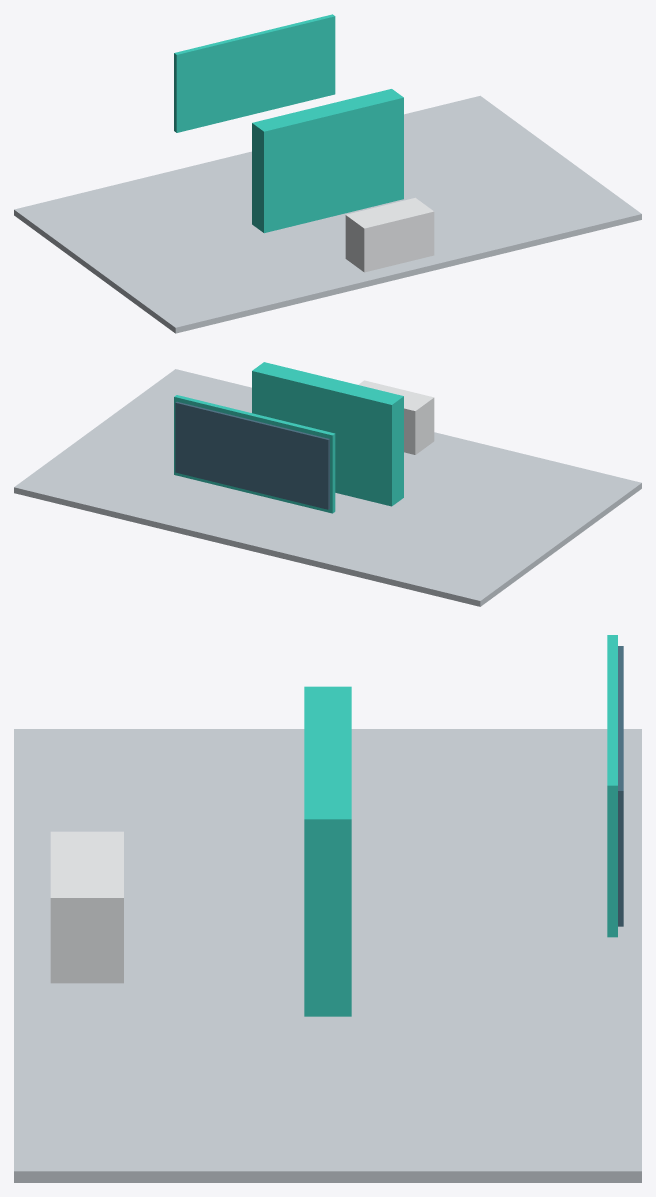
The picture shows the model from 3 angles, top to bottom: view 1: azimuth 30°, elevation 25°; view 2: azimuth 150°, elevation 25°; view 3: azimuth 270°, elevation 25°; orthographic projection. The views are drawn at different scales.
Visible parts, largest first — view 1: Exhibition Booth Concept; view 2: Exhibition Booth Concept; view 3: Exhibition Booth Concept.
Boxes of the visible parts, left/top/right/bottom form: Exhibition Booth Concept: left=14, top=14, right=641, bottom=333; Exhibition Booth Concept: left=14, top=362, right=641, bottom=606; Exhibition Booth Concept: left=14, top=635, right=641, bottom=1182.
Size of the model in its own units: 10 by 2.65 by 6.
